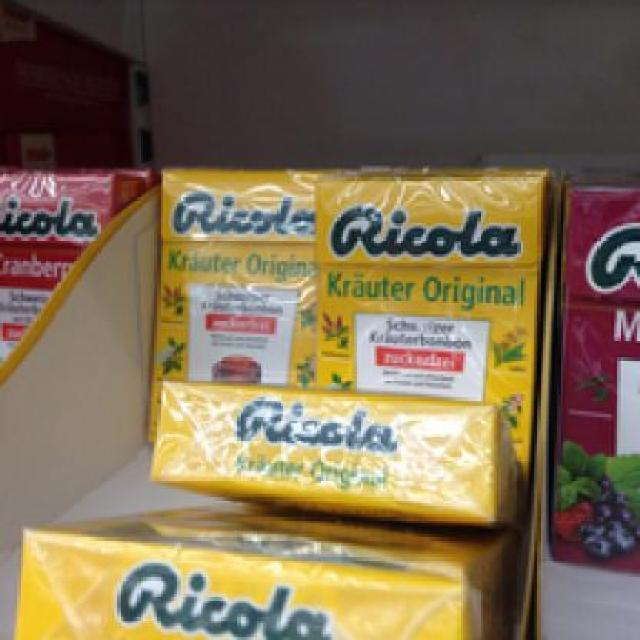Candy: (308, 174, 526, 486), (154, 166, 320, 426), (545, 177, 638, 543), (0, 170, 115, 449)
